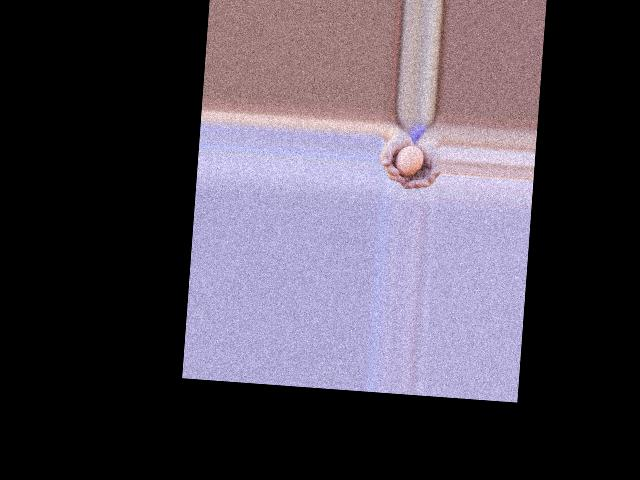egg: (395, 144, 425, 177)
